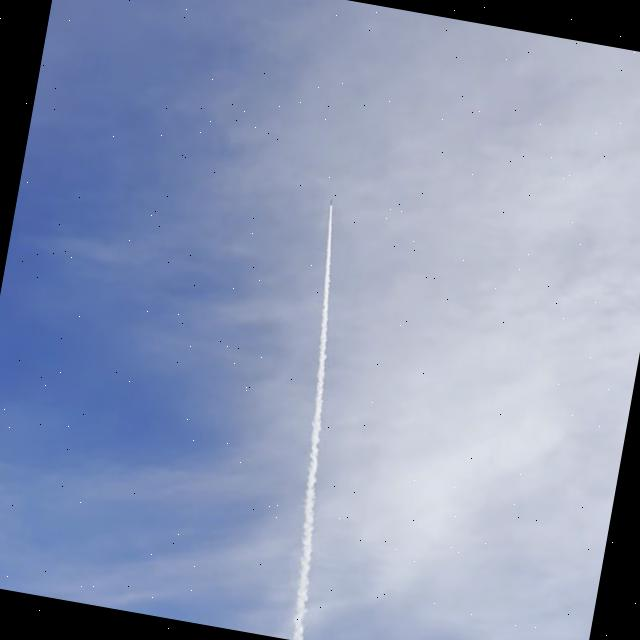smoke_trail_with_rocket: (290, 202, 331, 640)
